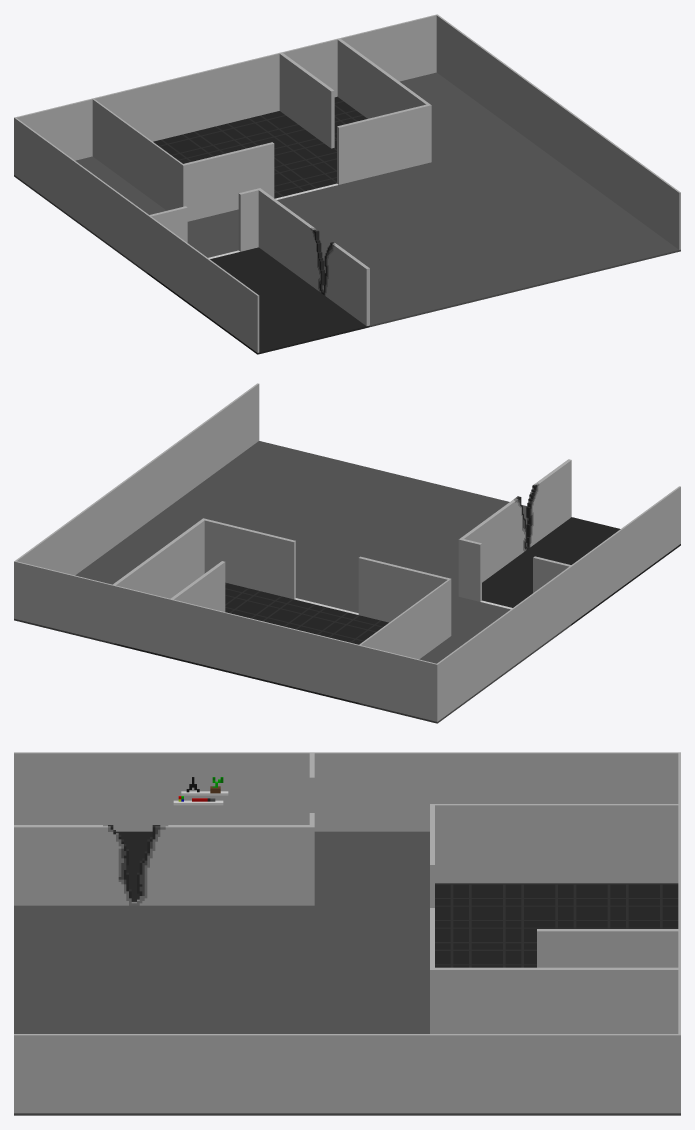
The model's file is Test-salle2.obj.
3 renders of one model, top to bottom at view 1: azimuth 30°, elevation 25°; view 2: azimuth 150°, elevation 25°; view 3: azimuth 270°, elevation 25°, orthographic. The views are drawn at different scales.
Bounding box in the file's own units: 25.6 × 3.4 × 25.5.
1 material, 1 textured.
